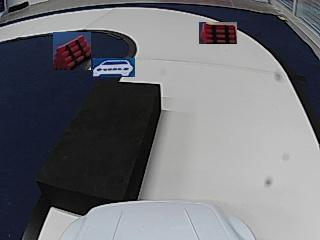block: (40, 80, 159, 201)
